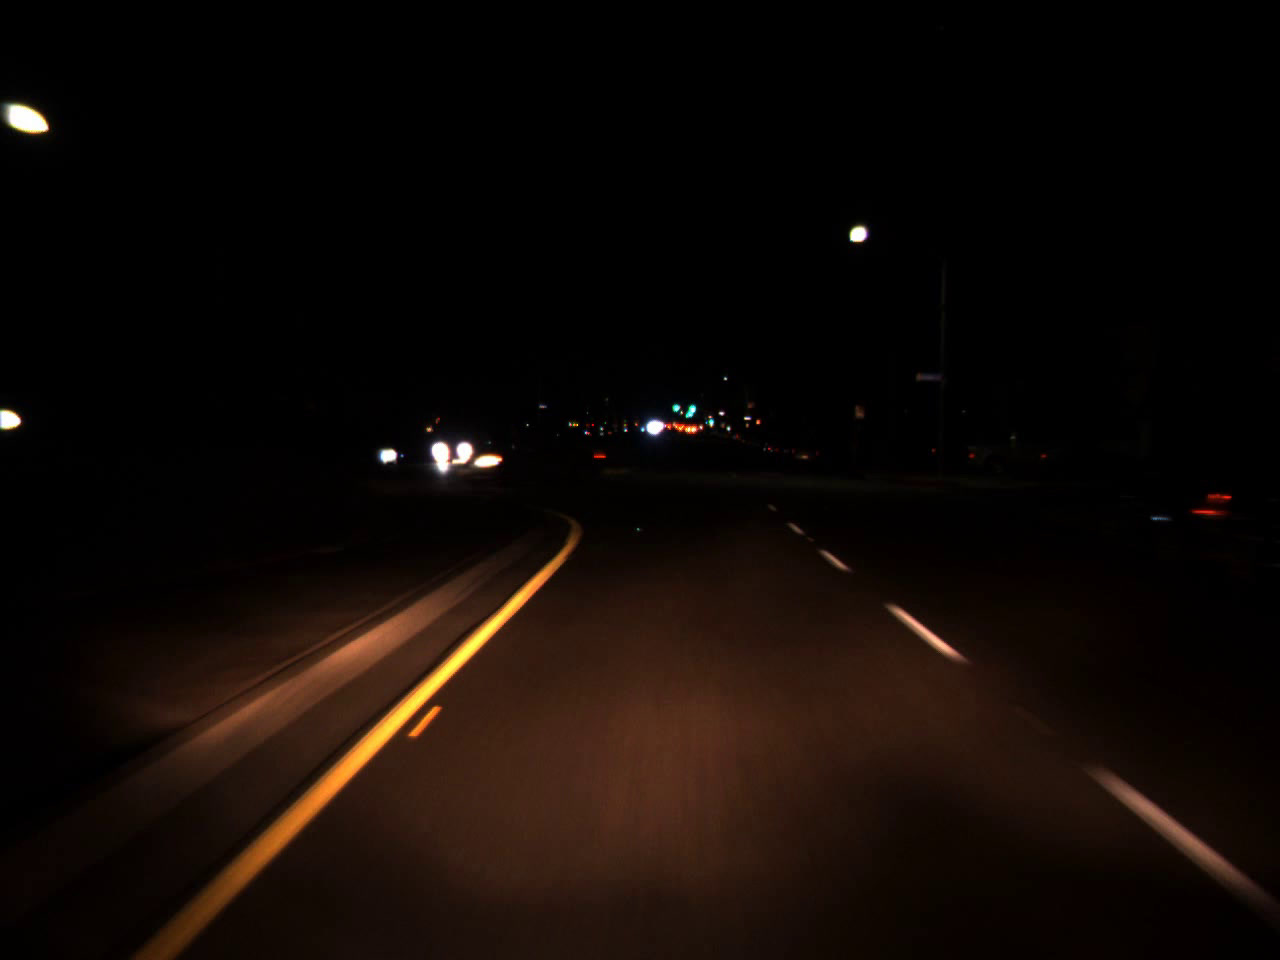go: (684, 394, 696, 415), (670, 397, 679, 412), (706, 411, 715, 426)
